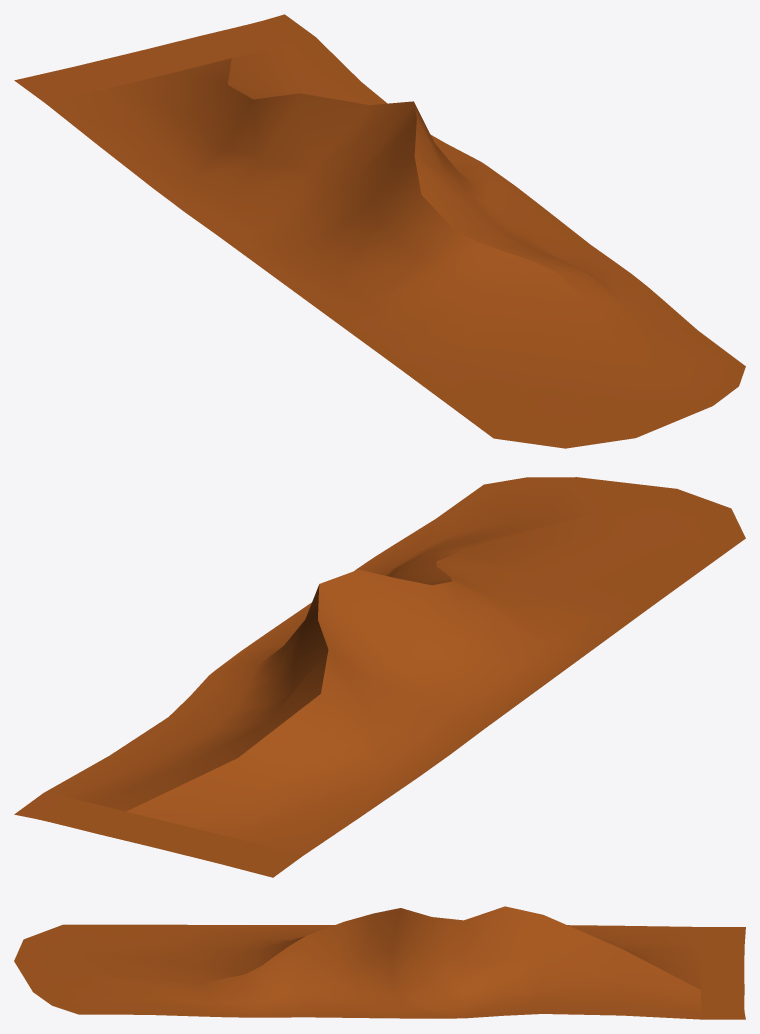
Rendered from SM_Dune_03.fbx.
3 views of the same model, one above another, from view 1: azimuth 30°, elevation 25°; view 2: azimuth 150°, elevation 25°; view 3: azimuth 270°, elevation 25° (orthographic). The views are drawn at different scales.
Parts seen in each view (by area): view 1: SM_Dune_03; view 2: SM_Dune_03; view 3: SM_Dune_03.
Boxes of the visible parts, box(x1,y1,x2,y2) form: SM_Dune_03: box(14, 14, 745, 448); SM_Dune_03: box(14, 477, 745, 877); SM_Dune_03: box(14, 906, 745, 1019).
Bounding box in the file's own units: 798 × 289 × 2595.
